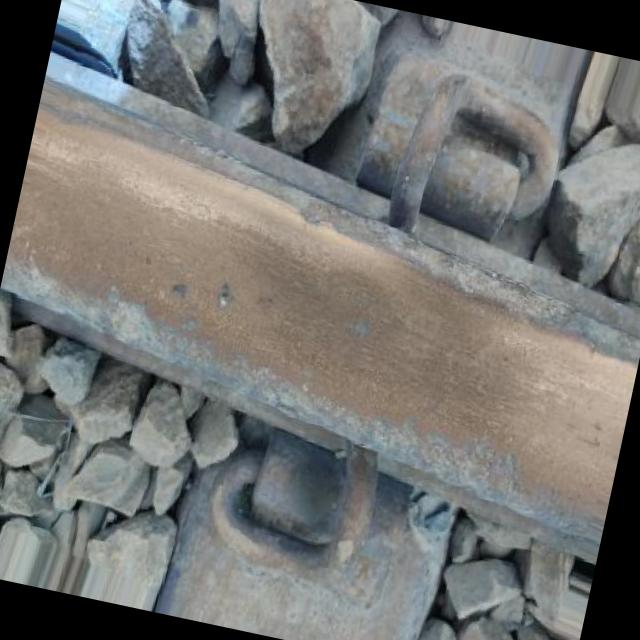defective: (0, 88, 640, 587)
